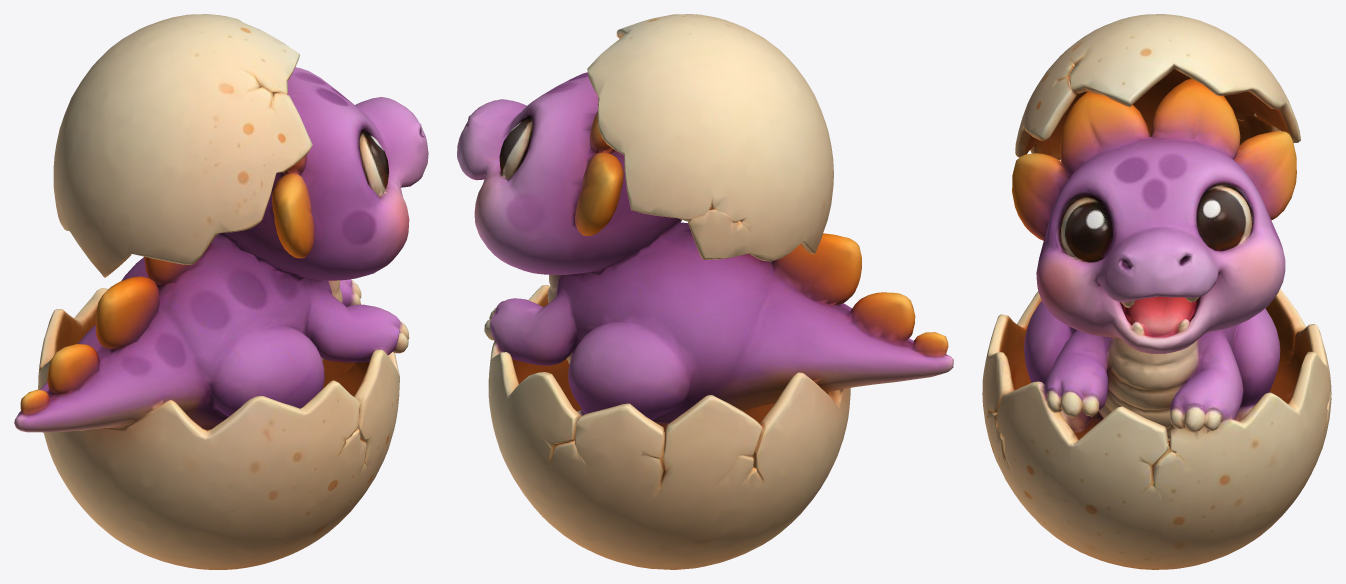
File: baby_6.glb
3 renders of one model, left to right at view 1: azimuth 30°, elevation 25°; view 2: azimuth 150°, elevation 25°; view 3: azimuth 270°, elevation 25°, orthographic. The views are drawn at different scales.
Visible parts, largest first — view 1: tripo_node_f2238e9f-81ff-4de1-aecf-794d7020ee1a; view 2: tripo_node_f2238e9f-81ff-4de1-aecf-794d7020ee1a; view 3: tripo_node_f2238e9f-81ff-4de1-aecf-794d7020ee1a.
Part boxes in pixels (x1=…): tripo_node_f2238e9f-81ff-4de1-aecf-794d7020ee1a: x1=14, y1=14, x2=428, y2=569; tripo_node_f2238e9f-81ff-4de1-aecf-794d7020ee1a: x1=457, y1=14, x2=953, y2=569; tripo_node_f2238e9f-81ff-4de1-aecf-794d7020ee1a: x1=982, y1=14, x2=1331, y2=569.
Size of the model in its own units: 0.8904 by 1 by 0.6185.
1 material, 1 textured.
